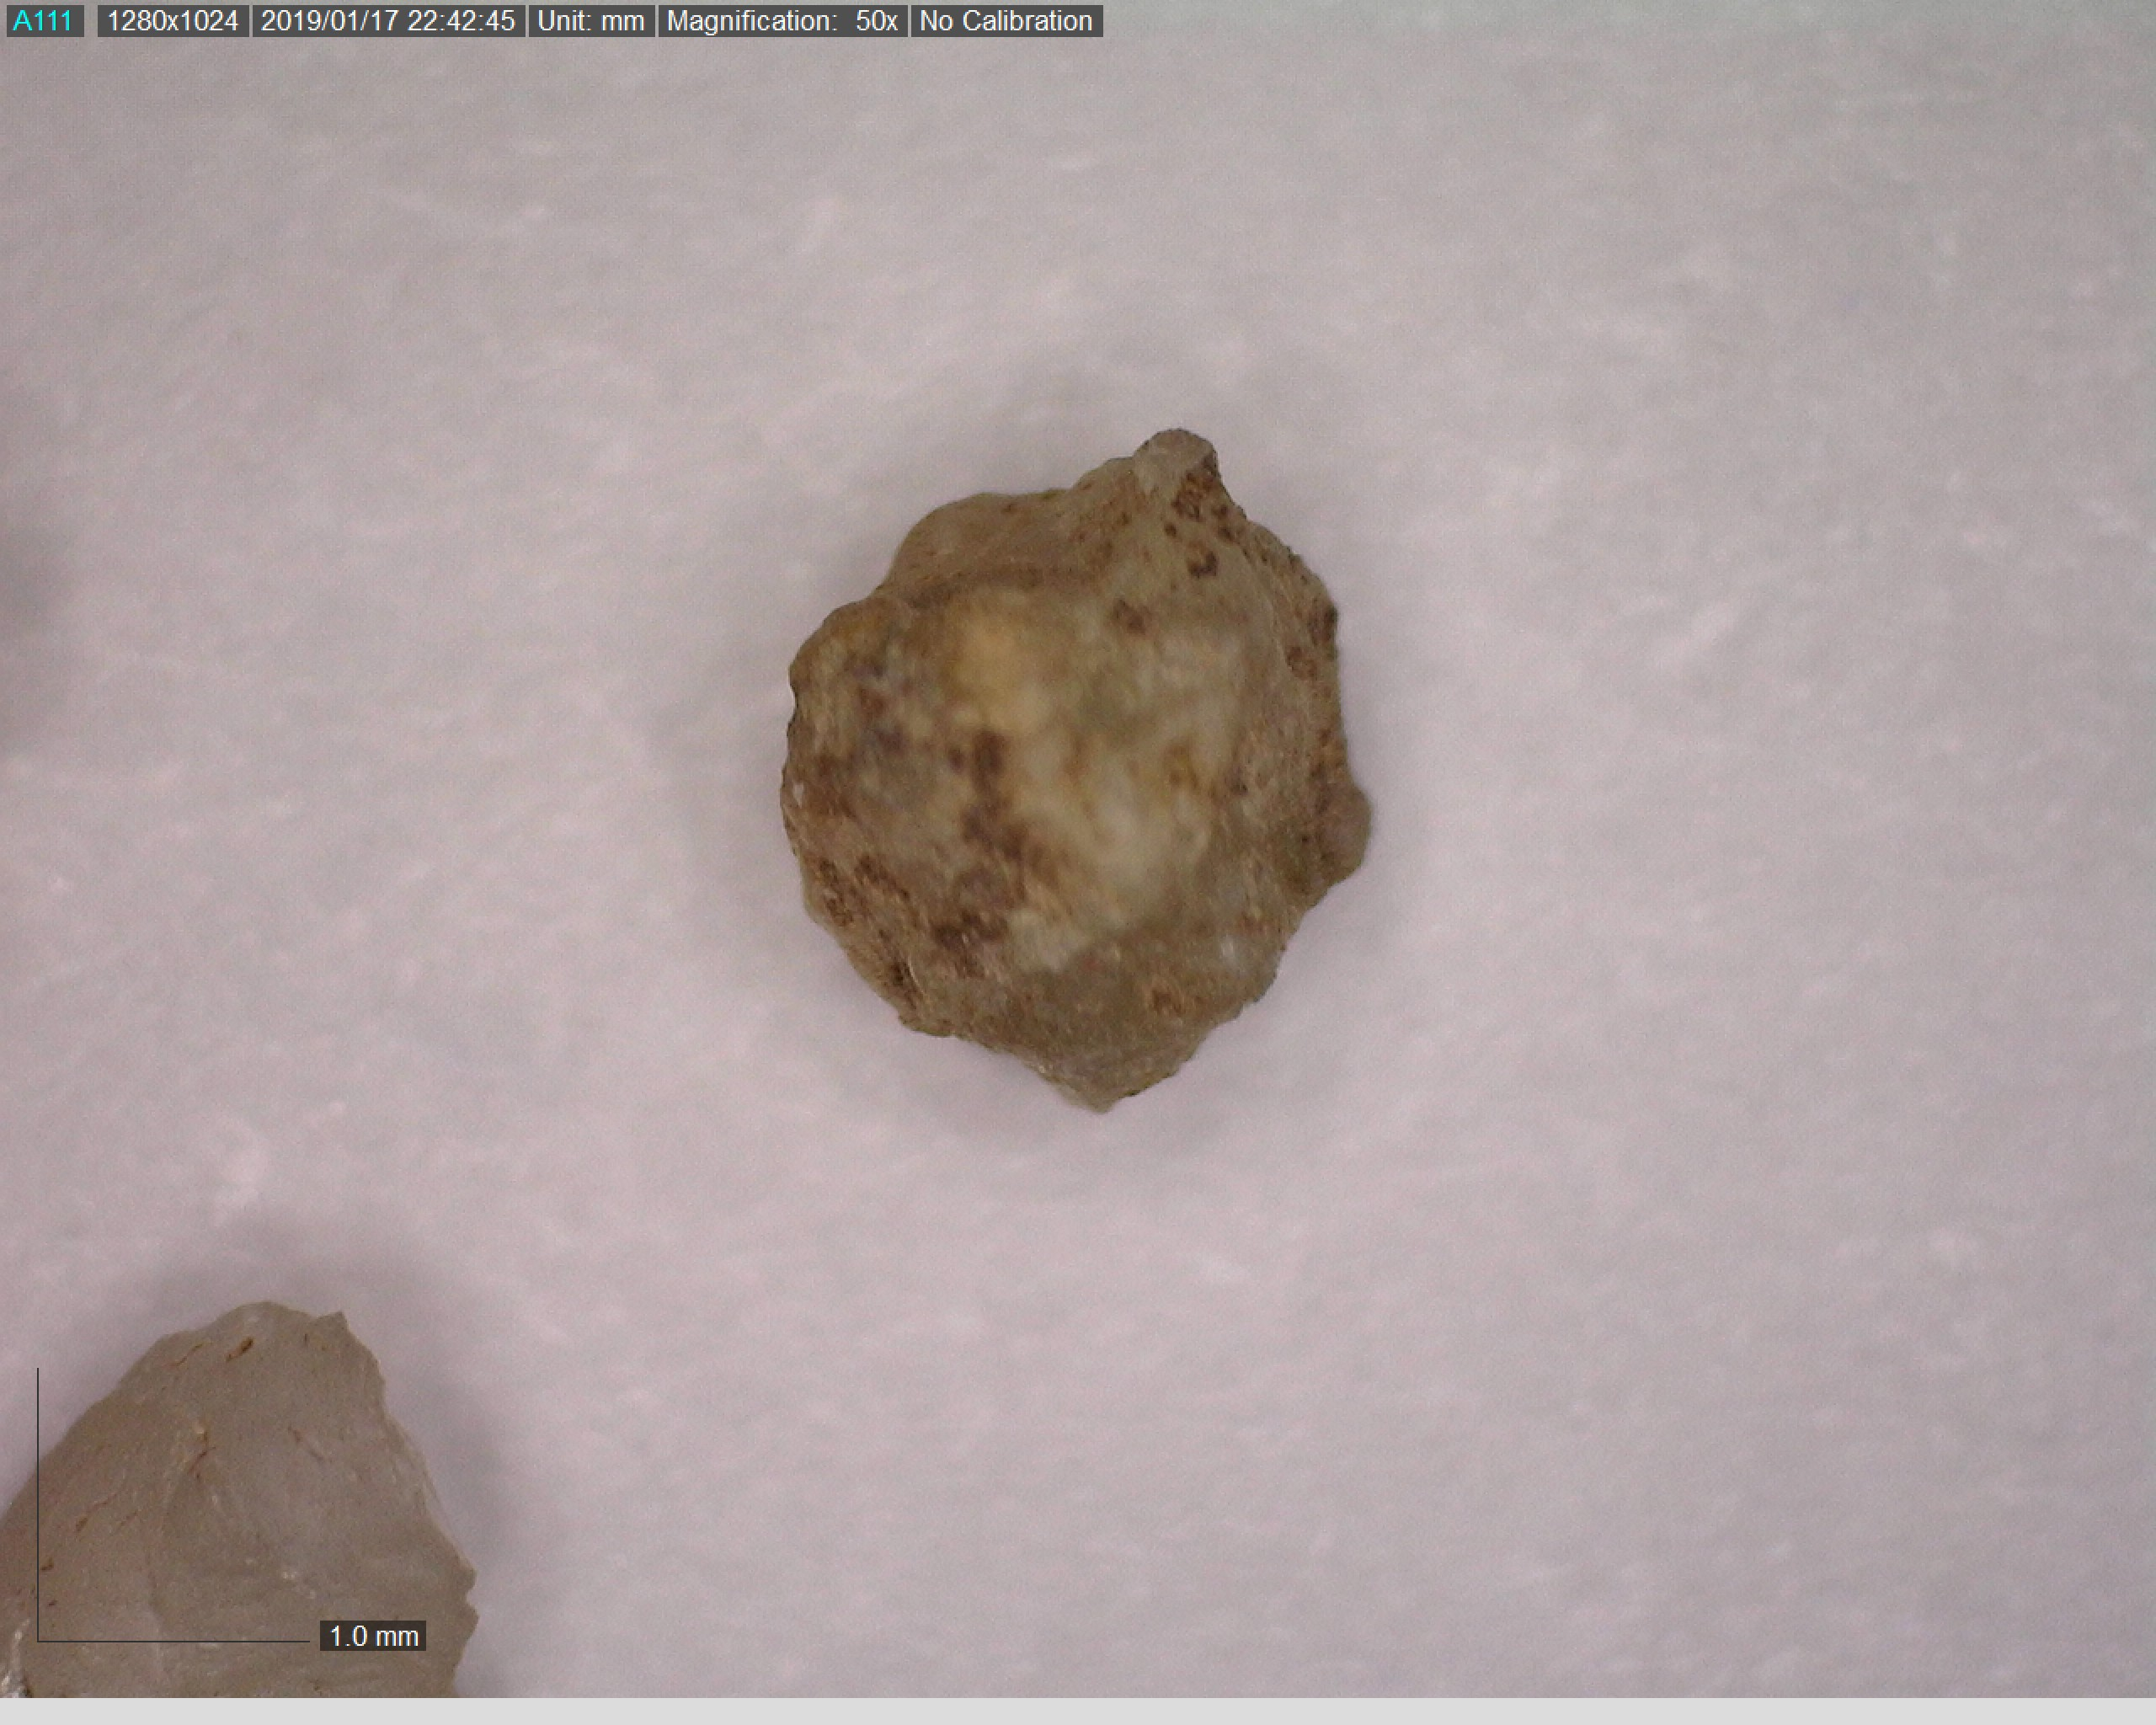Quartz: (764, 417, 1408, 1146), (42, 1290, 496, 1619)
